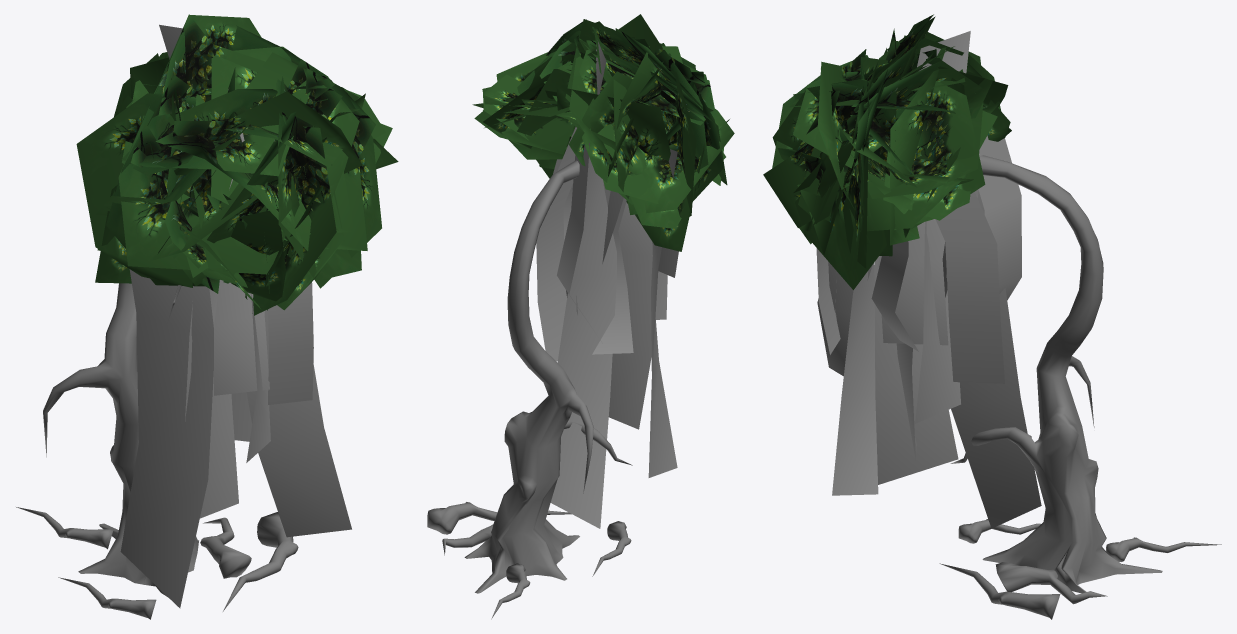
File: grantree_lod0.fbx
3 renders of one model, left to right at view 1: azimuth 30°, elevation 25°; view 2: azimuth 150°, elevation 25°; view 3: azimuth 270°, elevation 25°, orthographic. The views are drawn at different scales.
Visible parts, largest first — view 1: Default_Layer; view 2: Default_Layer; view 3: Default_Layer.
Part boxes in pixels (left/top/right/bottom): Default_Layer: left=16, top=14, right=398, bottom=619; Default_Layer: left=427, top=14, right=734, bottom=619; Default_Layer: left=763, top=14, right=1221, bottom=619.
Size of the model in its own units: 979 by 1899 by 1466.
